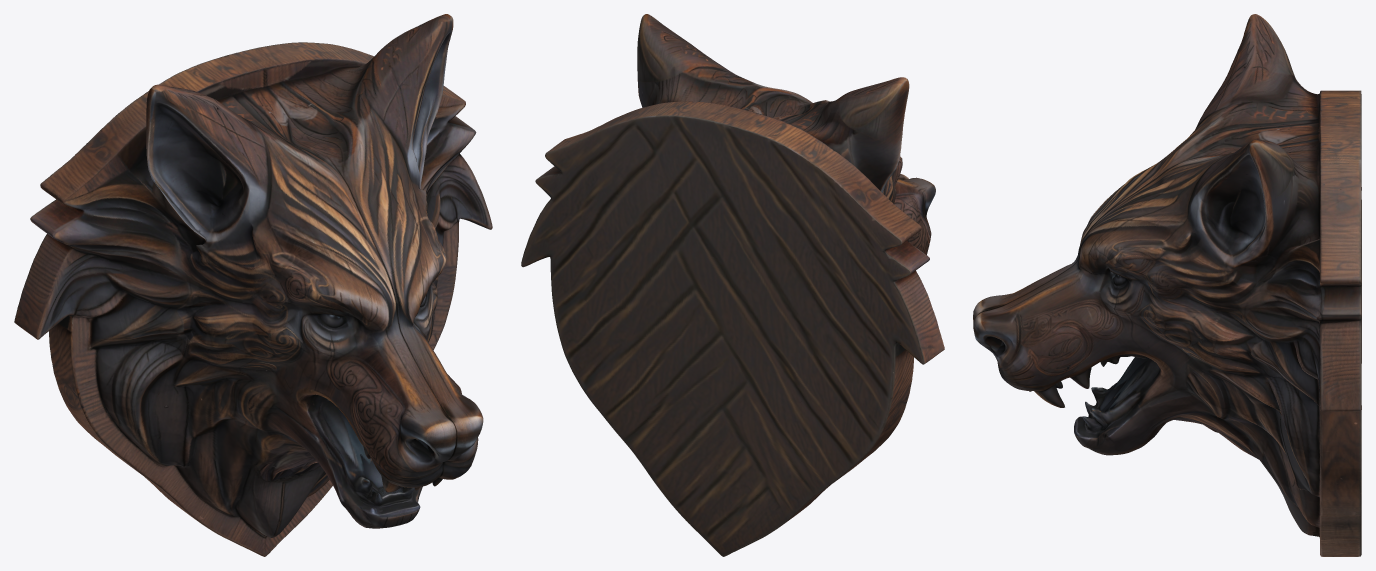
File: _Create_a_3D_mesh_of__0721233052_texture.fbx
3 renders of one model, left to right at view 1: azimuth 30°, elevation 25°; view 2: azimuth 150°, elevation 25°; view 3: azimuth 270°, elevation 25°, orthographic. The views are drawn at different scales.
Parts seen in each view (by area): view 1: Mesh_0; view 2: Mesh_0; view 3: Mesh_0.
Part boxes in pixels (x1,y1,x2,y2): Mesh_0: (14,14,492,556); Mesh_0: (521,14,944,556); Mesh_0: (973,14,1361,556).
Bounding box in the file's own units: 178 × 199 × 146.
1 material, 1 textured.
